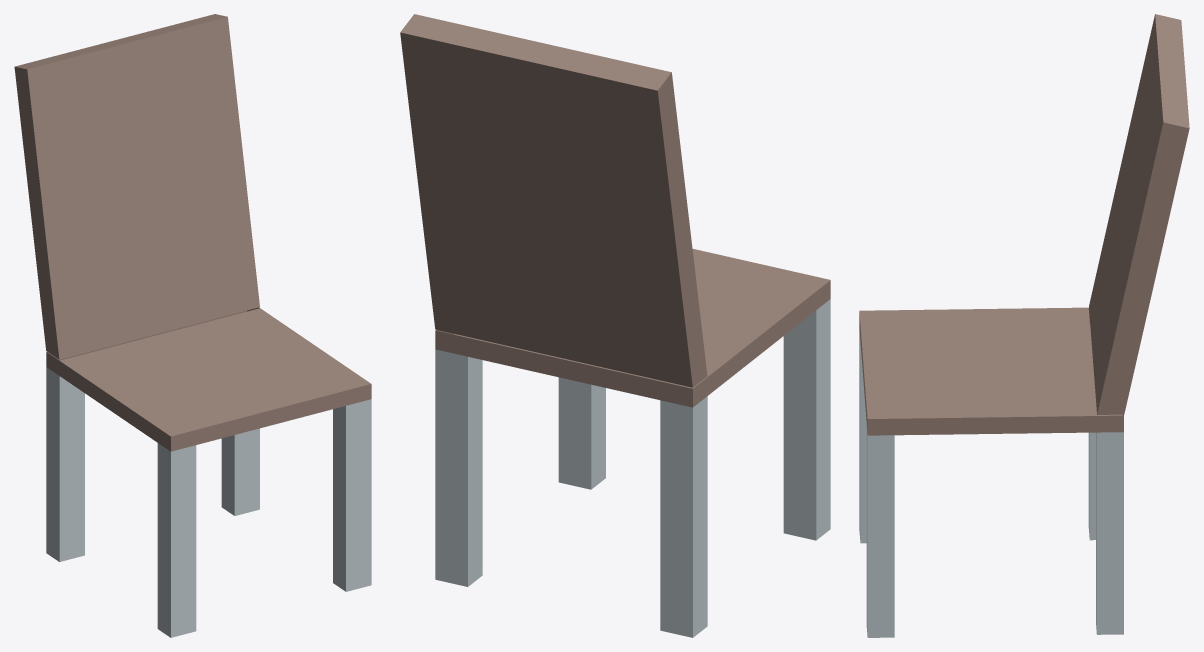
File: chair.fbx
The picture shows the model from 3 angles, left to right: view 1: azimuth 30°, elevation 25°; view 2: azimuth 150°, elevation 25°; view 3: azimuth 270°, elevation 25°; orthographic projection. The views are drawn at different scales.
Parts seen in each view (by area): view 1: polySurface219, polySurface286, polySurface289, polySurface290, polySurface287, polySurface288; view 2: polySurface219, polySurface286, polySurface287, polySurface288, polySurface289, polySurface290; view 3: polySurface286, polySurface219, polySurface290, polySurface288, polySurface289, polySurface287.
Boxes of the visible parts, x1,y1,x2,y2 form: polySurface219: (14, 14, 259, 359); polySurface286: (46, 307, 371, 451); polySurface289: (157, 443, 196, 637); polySurface290: (333, 399, 371, 591); polySurface287: (46, 367, 84, 561); polySurface288: (221, 428, 259, 515); polySurface219: (400, 14, 707, 387); polySurface286: (435, 249, 830, 407); polySurface287: (660, 396, 707, 637); polySurface288: (435, 349, 482, 586); polySurface289: (783, 299, 830, 540); polySurface290: (558, 377, 605, 489); polySurface286: (859, 307, 1123, 435); polySurface219: (1089, 14, 1189, 414); polySurface290: (866, 425, 894, 637); polySurface288: (1096, 432, 1123, 634); polySurface289: (859, 329, 866, 543); polySurface287: (1088, 324, 1095, 540).
Size of the model in its own units: 1.36 by 2.88 by 1.69.
